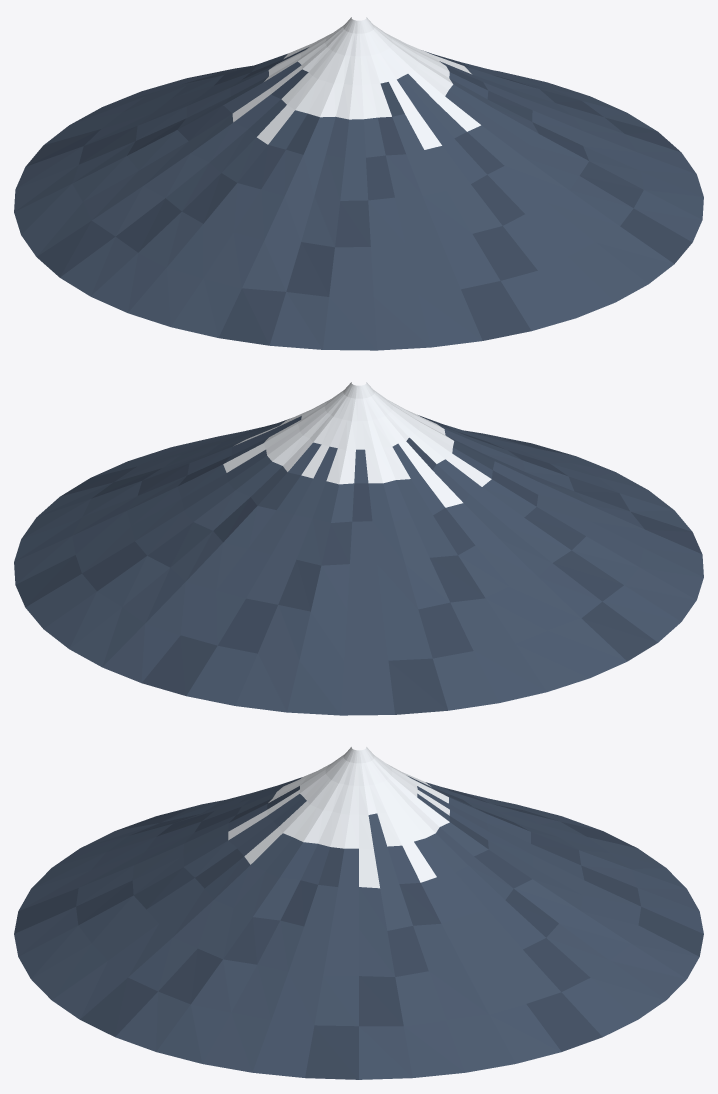
The model's file is mountain-fuji.glb.
3 renders of one model, top to bottom at view 1: azimuth 30°, elevation 25°; view 2: azimuth 150°, elevation 25°; view 3: azimuth 270°, elevation 25°, orthographic.
Visible parts, largest first — view 1: mountainFuji; view 2: mountainFuji; view 3: mountainFuji.
Boxes of the visible parts, bbox=[...] form: mountainFuji: bbox=[14, 17, 703, 350]; mountainFuji: bbox=[14, 382, 703, 715]; mountainFuji: bbox=[14, 747, 703, 1079].
Bounding box in the file's own units: 14.72 × 4.4 × 14.72.
